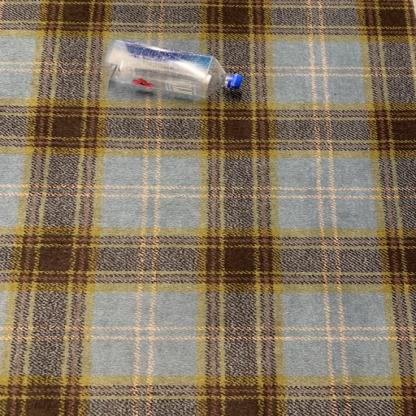trash: (99, 38, 245, 101)
